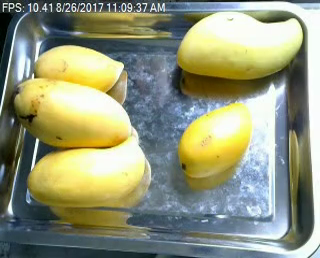Mango: (22, 143, 150, 213), (176, 12, 305, 81), (13, 80, 128, 150), (176, 99, 254, 175), (32, 42, 132, 93)
